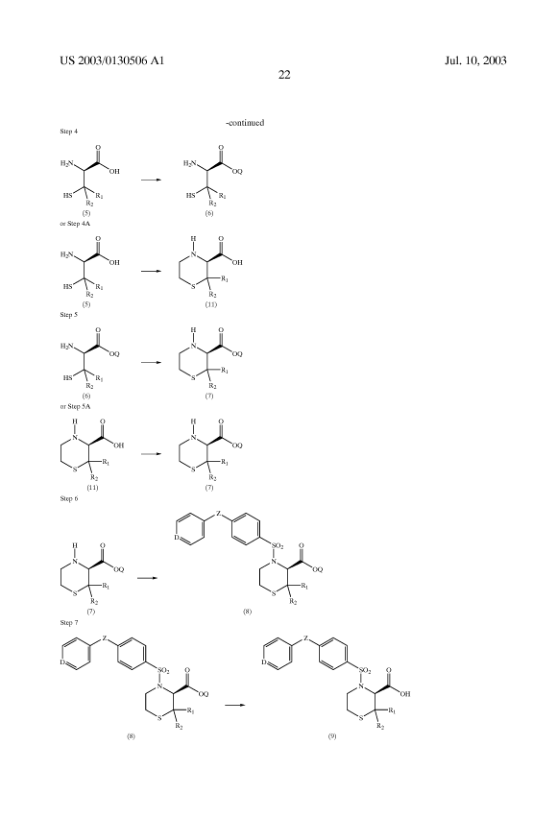compound-structure: (44, 634, 219, 736), (164, 506, 322, 610), (255, 629, 413, 733), (58, 529, 129, 612), (165, 324, 244, 392), (170, 413, 247, 481), (175, 137, 246, 209), (56, 138, 121, 216), (175, 227, 245, 298), (52, 416, 128, 481), (58, 234, 127, 297), (61, 320, 123, 390)
reaction: (41, 105, 421, 759)
reaction-arrow: (138, 265, 164, 276), (138, 176, 164, 186), (139, 572, 157, 585), (141, 450, 163, 460), (139, 361, 163, 369), (222, 701, 247, 708)
